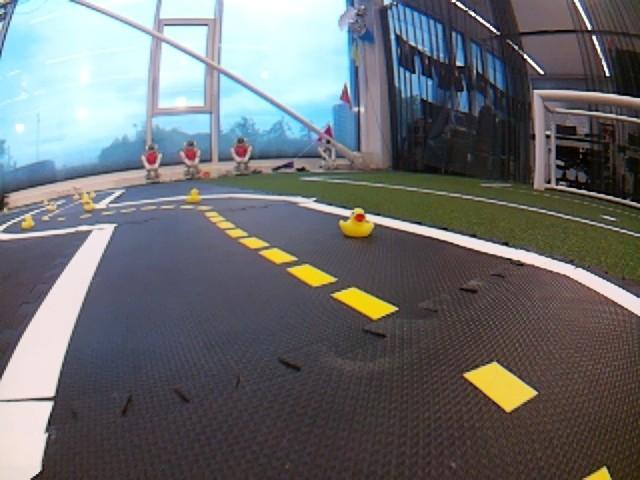Duckies: (339, 208, 376, 236), (186, 189, 204, 203), (21, 215, 36, 229), (84, 201, 93, 212), (48, 201, 56, 210), (82, 193, 90, 199)
